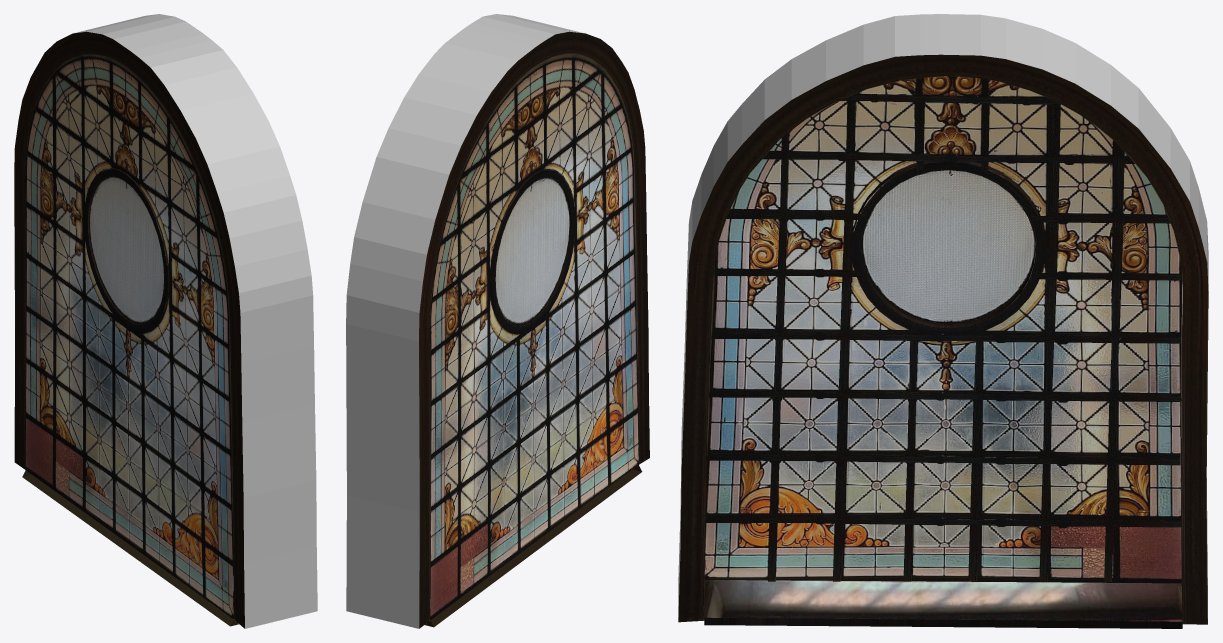
The model's file is VITRAL.fbx.
The picture shows the model from 3 angles, left to right: view 1: azimuth 30°, elevation 25°; view 2: azimuth 150°, elevation 25°; view 3: azimuth 270°, elevation 25°; orthographic projection. The views are drawn at different scales.
Parts seen in each view (by area): view 1: Plane.004; view 2: Plane.004; view 3: Plane.004.
Part boxes in pixels (x1=…): Plane.004: x1=14, y1=14, x2=317, y2=628; Plane.004: x1=346, y1=14, x2=649, y2=628; Plane.004: x1=678, y1=14, x2=1208, y2=628.
Size of the model in its own units: 51.75 by 325 by 271.
